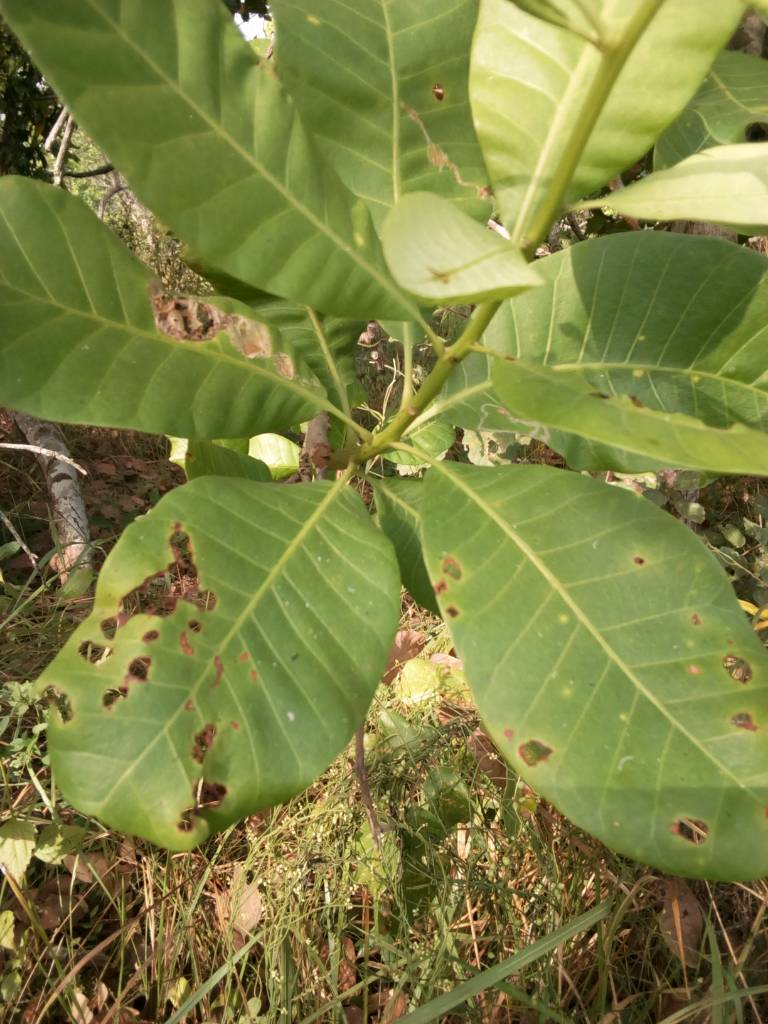Anoplonemis curvipes: (393, 430, 765, 875), (32, 460, 407, 861)
